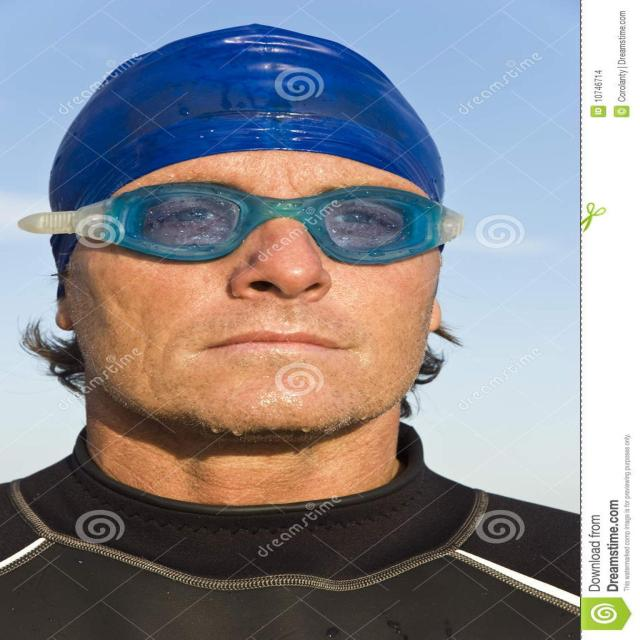Face: (66, 126, 465, 470)
